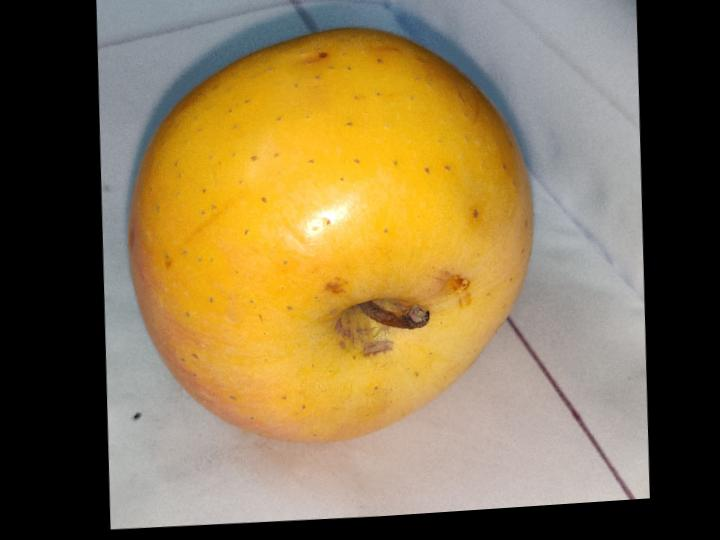apple: (128, 28, 530, 441)
surface_damage: (436, 275, 468, 297), (333, 316, 355, 348), (361, 340, 392, 355), (323, 282, 343, 294), (355, 327, 374, 335), (336, 340, 345, 350), (351, 355, 355, 360)
